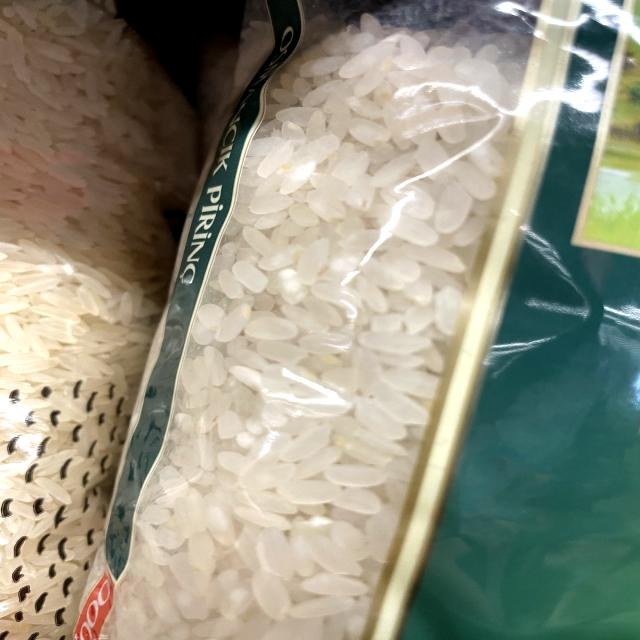rice: (120, 26, 517, 640)
